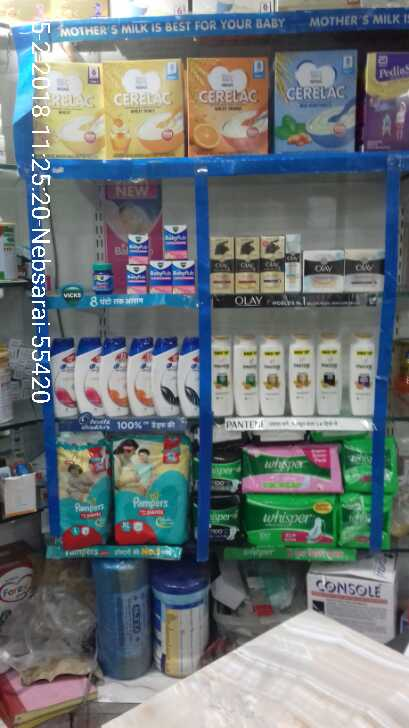vicks: (89, 221, 200, 294)
